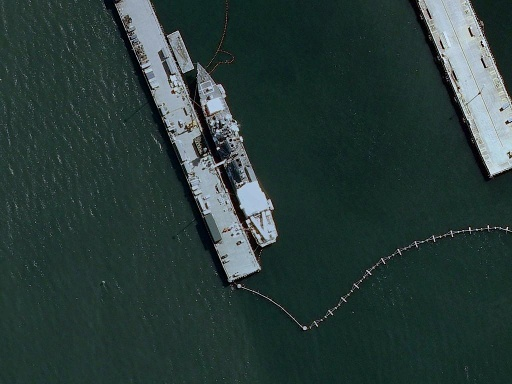ship: (185, 58, 282, 251)
